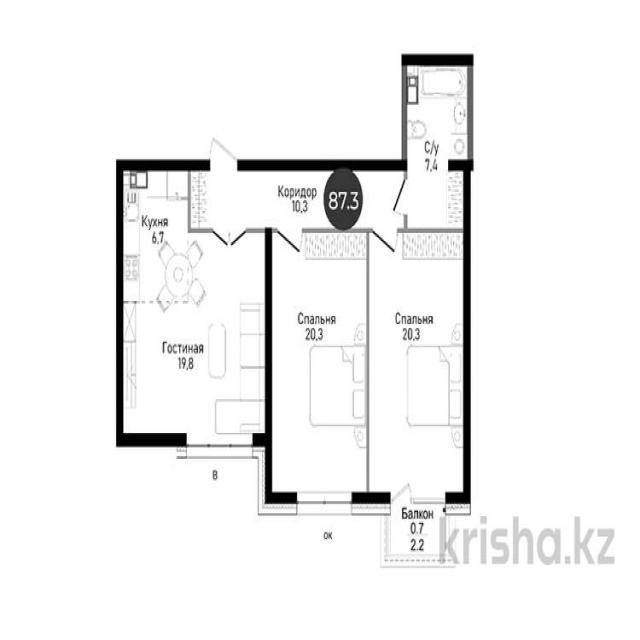balcony: (381, 501, 455, 565)
bathroom: (406, 64, 469, 165)
hallway: (190, 172, 400, 225)
living_room: (368, 237, 466, 500), (271, 227, 366, 496)
studio: (121, 167, 267, 437)
